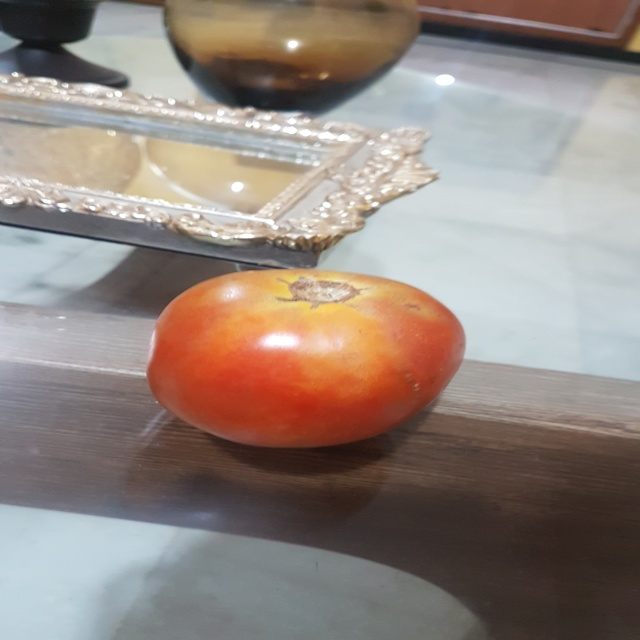tomato: (135, 255, 477, 461)
